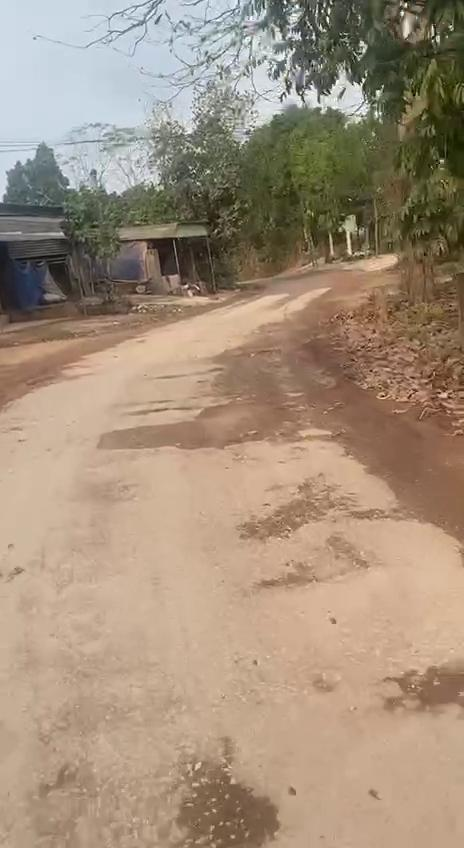pothole: (94, 386, 288, 461), (180, 772, 278, 848), (250, 478, 342, 540), (394, 646, 464, 720)
